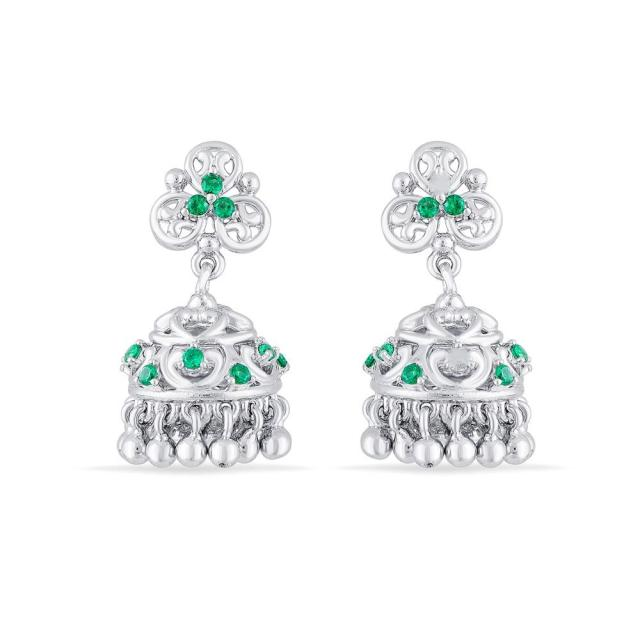missing gem: (428, 172, 452, 195), (447, 347, 470, 369)
